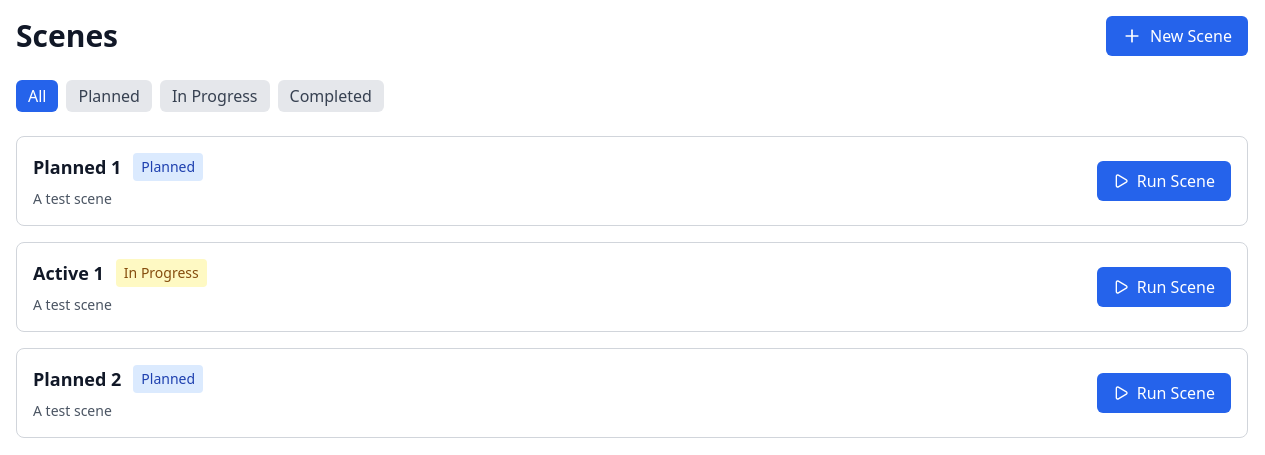
Scene List Page - Status Filtering › should filter to show only planned scenes
The width and height of the screenshot is (1265, 455).
Click the button "Planned" at (109, 96), box [66, 80, 152, 112]
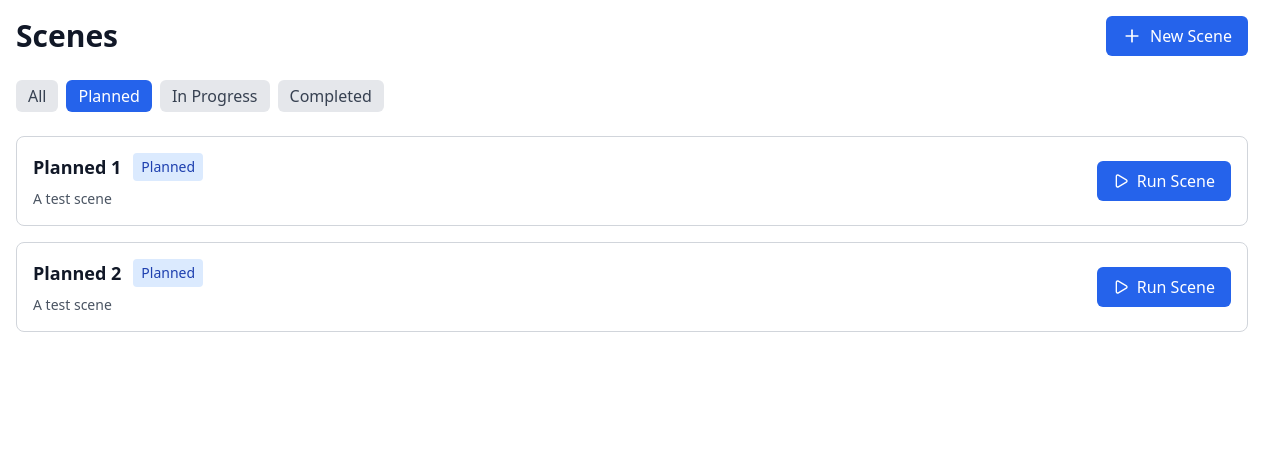
Expected: the heading "Planned 1" is shown, [33, 153, 121, 181]
Now the heading "Active 1" is gone
